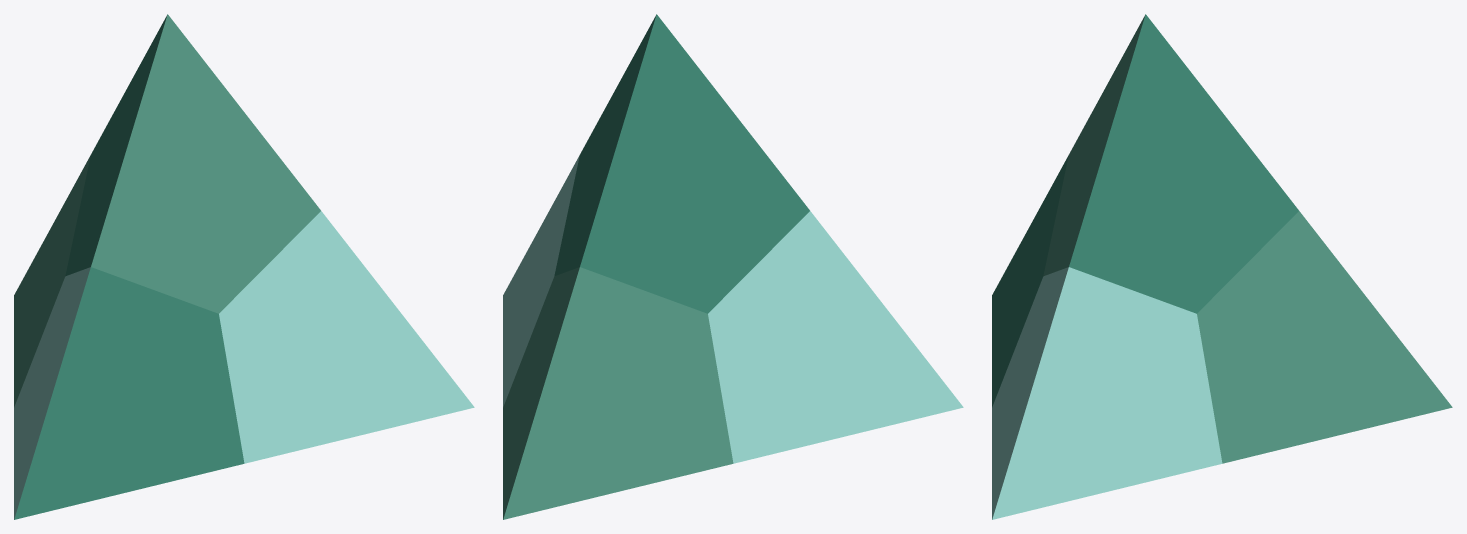
File: box.Pyrimad3.fbx
The picture shows the model from 3 angles, left to right: view 1: azimuth 30°, elevation 25°; view 2: azimuth 150°, elevation 25°; view 3: azimuth 270°, elevation 25°; orthographic projection.
Parts seen in each view (by area): view 1: Cone; view 2: Cone; view 3: Cone.
Part boxes in pixels (x1,y1,x2,y2): Cone: (14, 14, 474, 519); Cone: (503, 14, 963, 519); Cone: (992, 14, 1452, 519).
Bounding box in the file's own units: 200 × 163 × 173.
